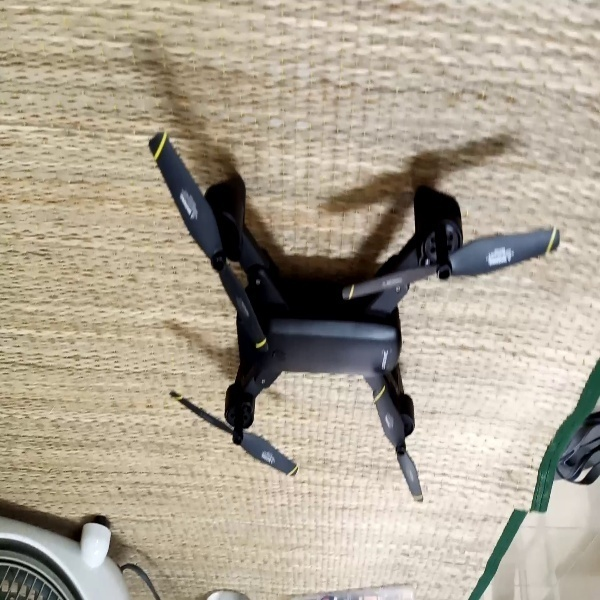drone: (146, 128, 559, 504)
